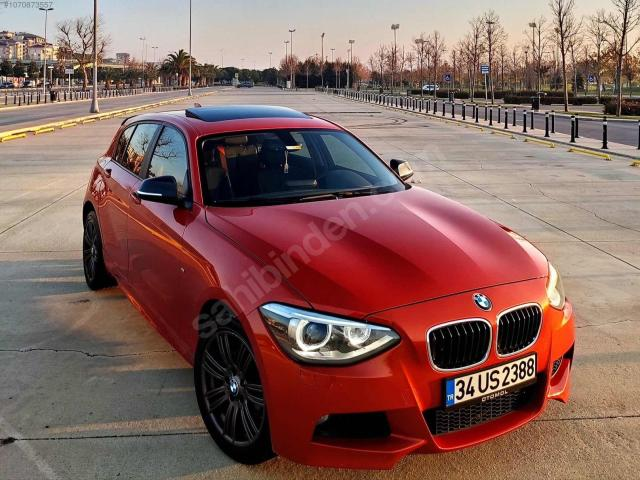plaka: (446, 354, 536, 406)
